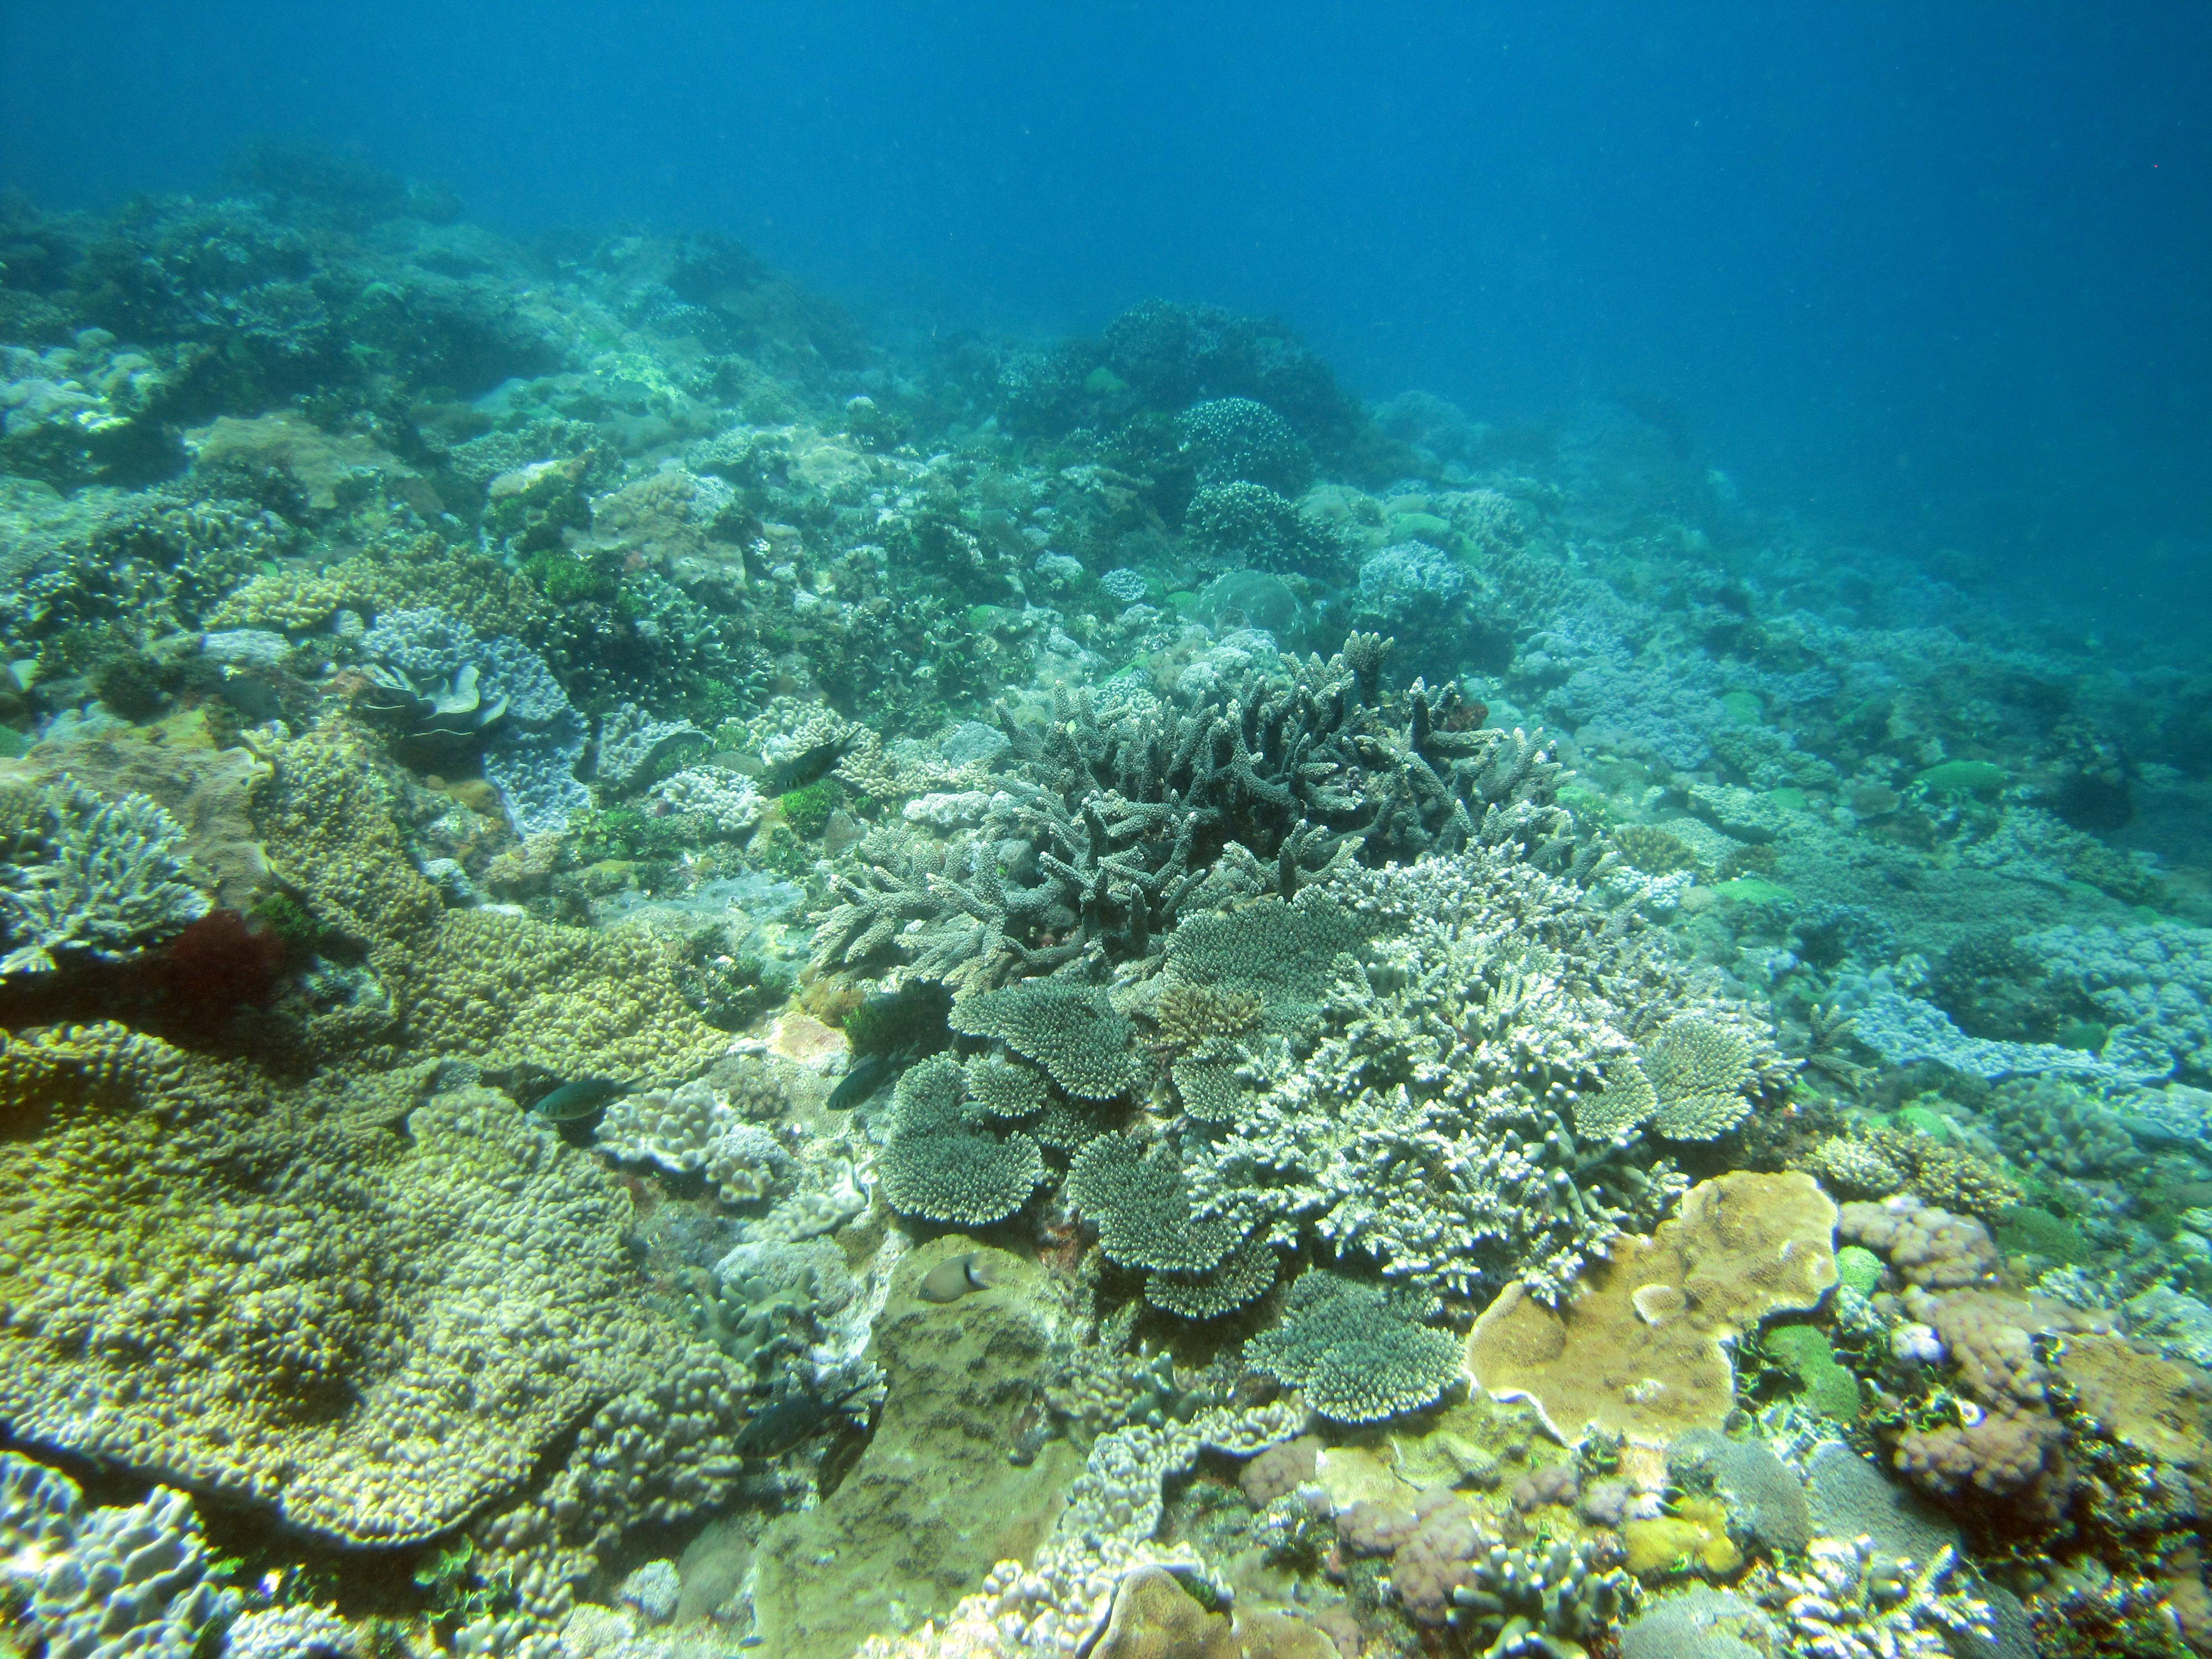Fish: (883, 1241, 1014, 1331)
